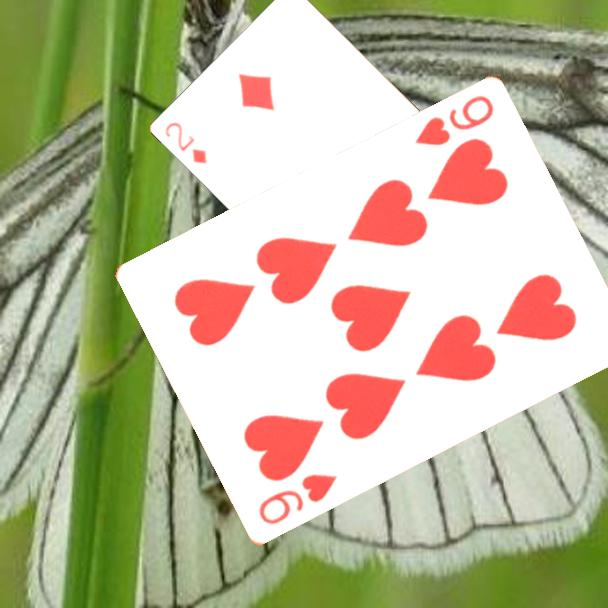d02: (162, 118, 210, 167)
h09: (254, 470, 340, 529), (411, 92, 497, 150)
